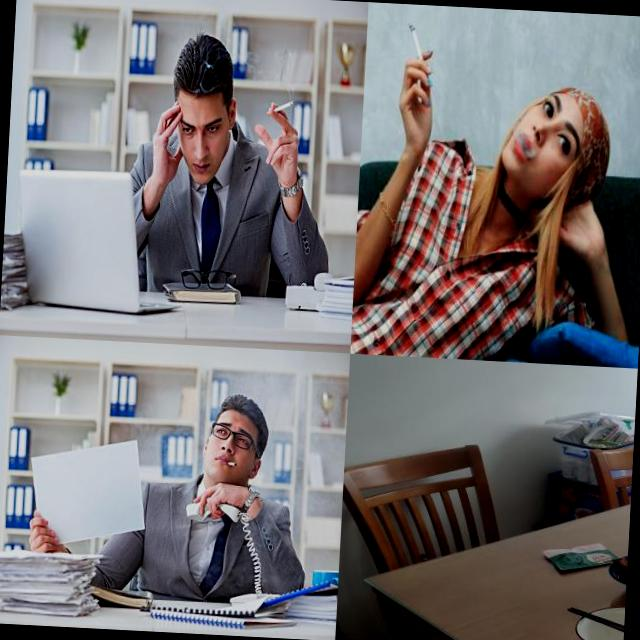cigarette: (406, 22, 429, 72), (266, 99, 295, 118), (225, 461, 238, 467)
